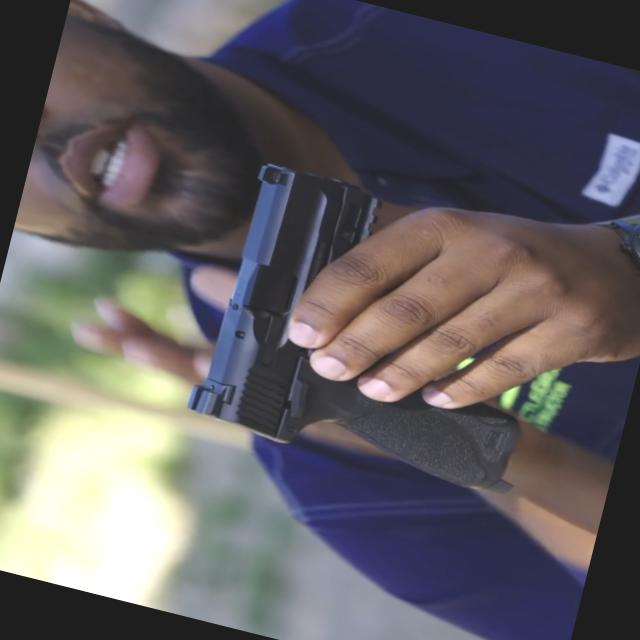handgun: (158, 138, 574, 506)
